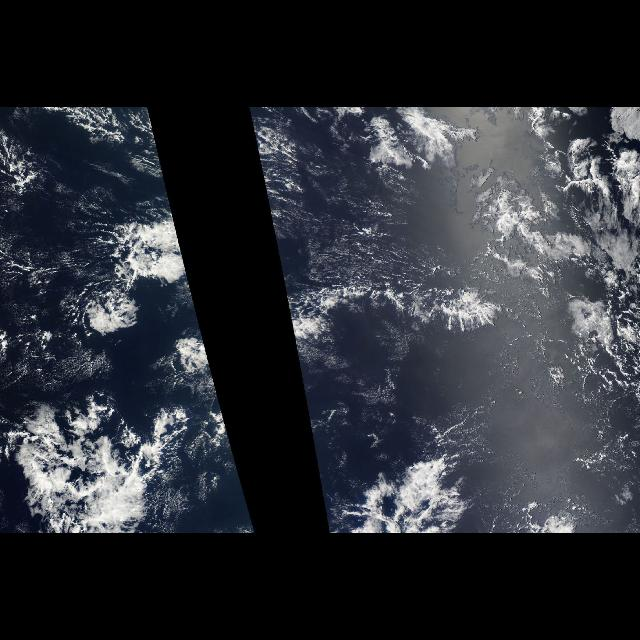Fish: (294, 222, 530, 356), (334, 446, 484, 530)
Flower: (60, 196, 212, 374)
Sugar: (260, 160, 458, 292)
